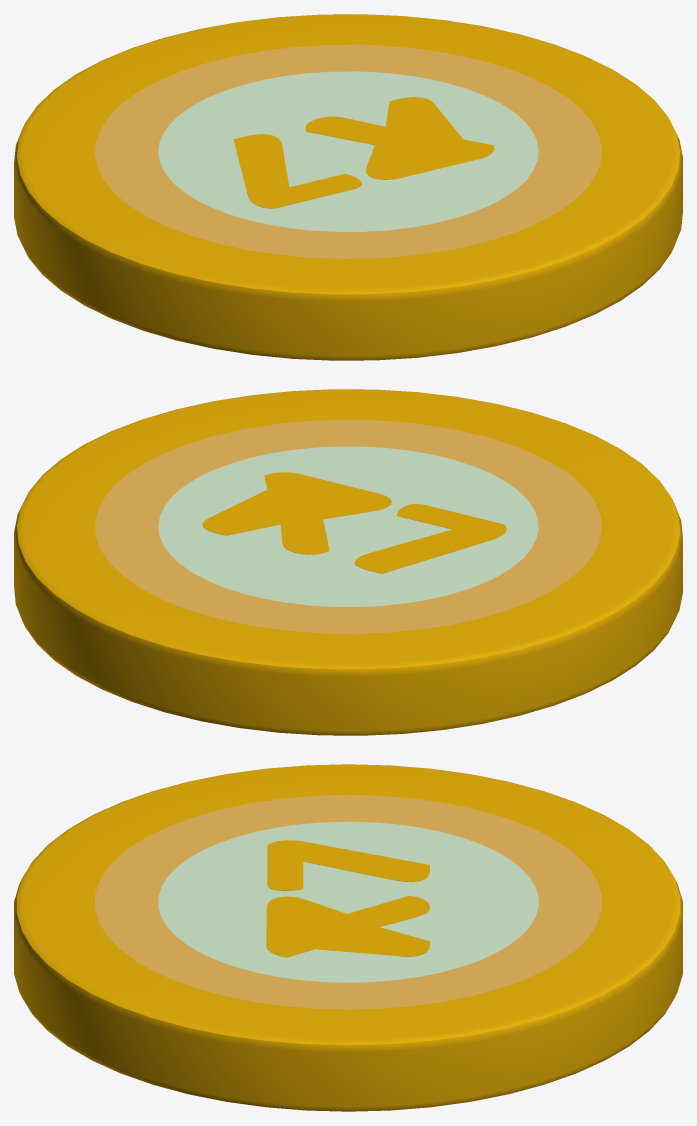
3 renders of one model, top to bottom at view 1: azimuth 30°, elevation 25°; view 2: azimuth 150°, elevation 25°; view 3: azimuth 270°, elevation 25°, orthographic.
Parts seen in each view (by area): view 1: X7; view 2: X7; view 3: X7.
Part boxes in pixels (box(x1,y1,x2,y2)): X7: box(14, 14, 682, 360); X7: box(14, 389, 682, 735); X7: box(14, 764, 682, 1111).
Size of the model in its own units: 321 by 38.44 by 320.
